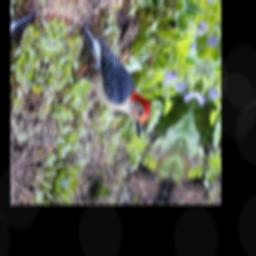Woodpecker: (50, 21, 172, 139)
